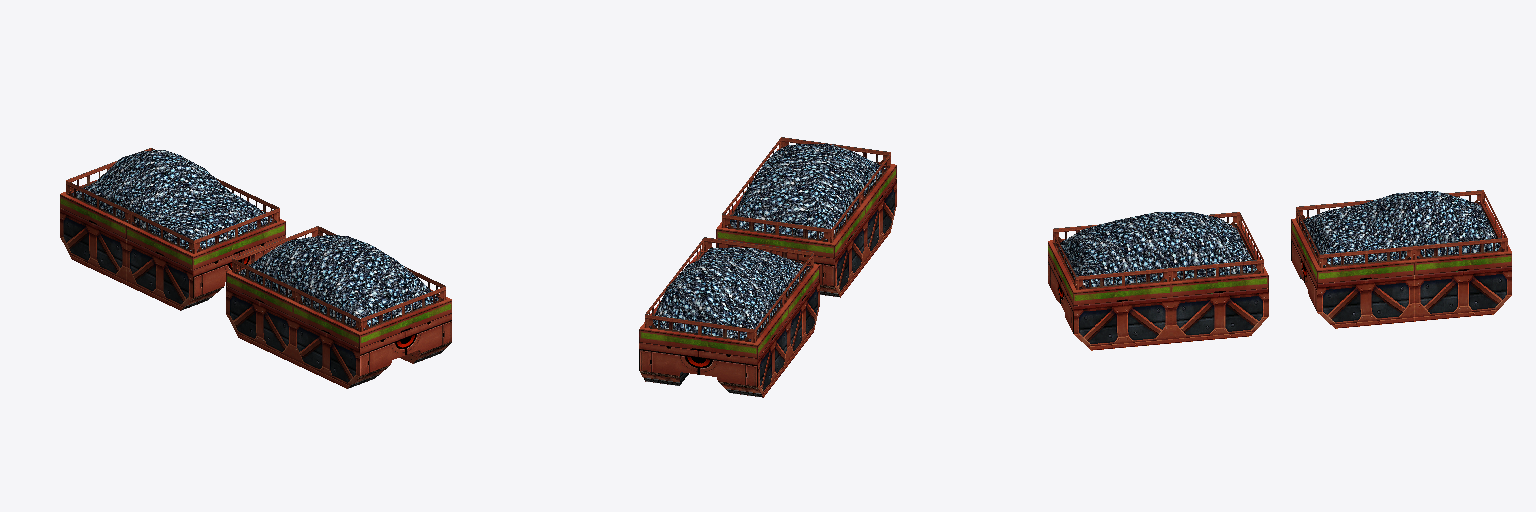
3 views of the same model, side by side, from view 1: azimuth 30°, elevation 25°; view 2: azimuth 150°, elevation 25°; view 3: azimuth 270°, elevation 25° (orthographic).
Parts seen in each view (by area): view 1: polygon3, polygon1, polygon4, polygon2; view 2: polygon3, polygon1, polygon4, polygon2; view 3: polygon3, polygon4, polygon1, polygon2.
Boxes of the visible parts, x1=… form: polygon3: x1=72, y1=150, x2=438, y2=328; polygon1: x1=60, y1=180, x2=451, y2=388; polygon4: x1=60, y1=208, x2=359, y2=388; polygon2: x1=66, y1=148, x2=445, y2=331; polygon3: x1=649, y1=144, x2=885, y2=340; polygon1: x1=639, y1=149, x2=896, y2=397; polygon4: x1=676, y1=178, x2=896, y2=397; polygon2: x1=645, y1=137, x2=890, y2=342; polygon3: x1=1057, y1=191, x2=1502, y2=287; polygon4: x1=1074, y1=267, x2=1511, y2=350; polygon1: x1=1048, y1=201, x2=1511, y2=333; polygon2: x1=1053, y1=190, x2=1507, y2=289.
Bounding box in the file's own units: 86.33 × 44.99 × 186.
6 materials, 6 textured.